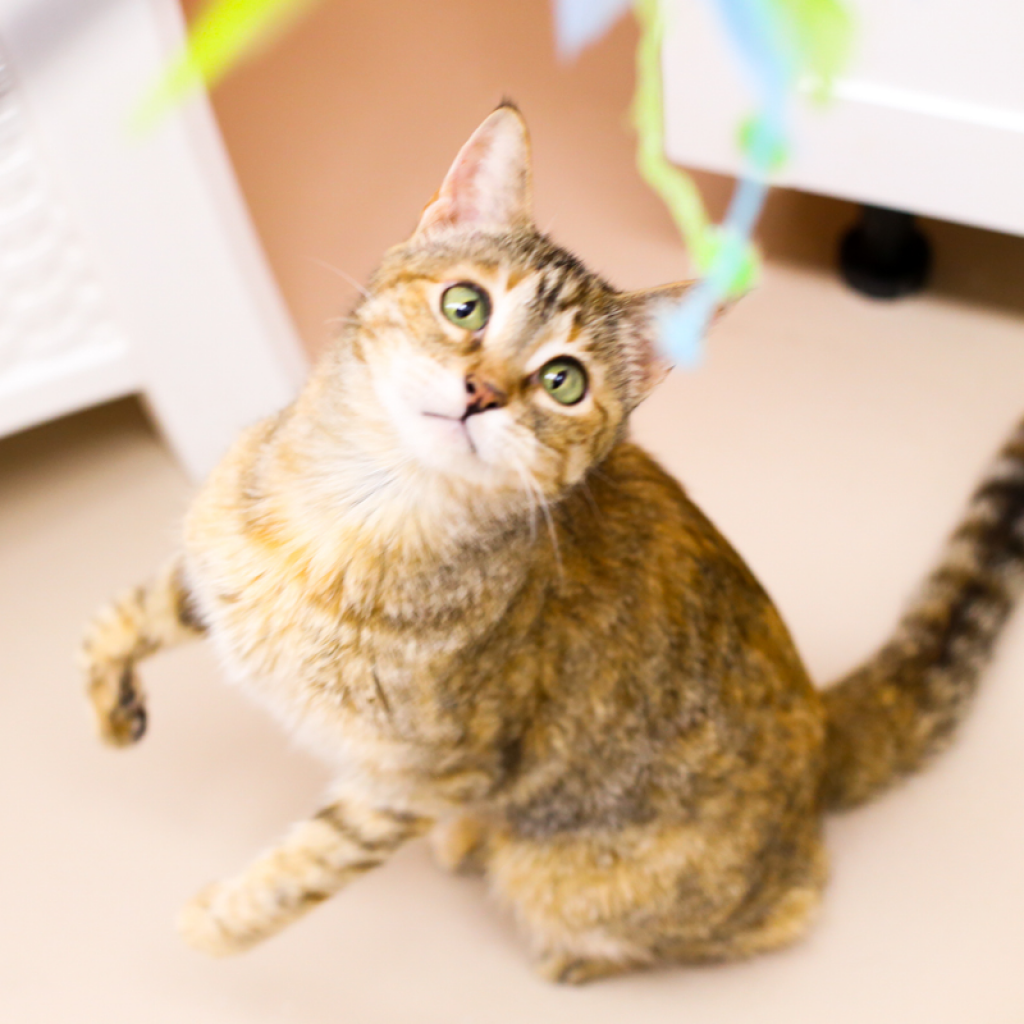cat: (70, 106, 1011, 1003)
